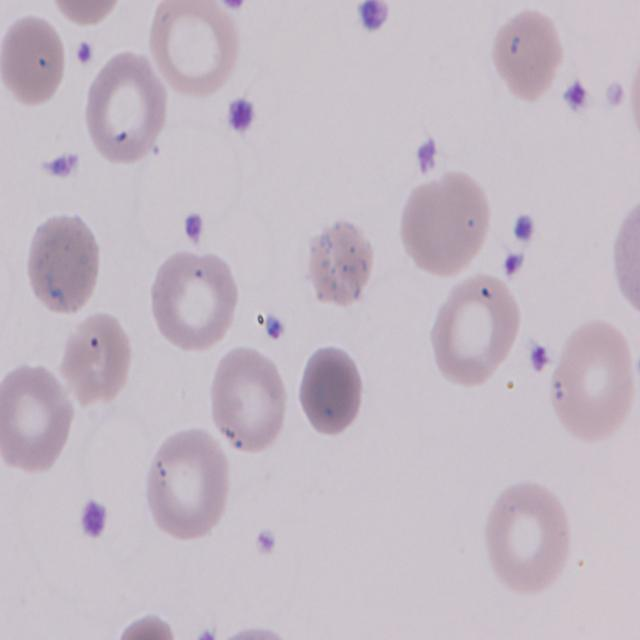Platelets: (507, 210, 537, 252)
RBC: (548, 316, 640, 446), (428, 270, 522, 390), (484, 481, 574, 600), (79, 49, 167, 170), (398, 166, 493, 278), (144, 426, 232, 543), (146, 244, 238, 355), (146, 0, 240, 104), (207, 342, 290, 454), (0, 358, 76, 476), (488, 4, 570, 100), (608, 195, 640, 321), (42, 0, 130, 29), (108, 610, 186, 640), (197, 626, 309, 640), (628, 36, 640, 162)
Spherocyte: (26, 206, 104, 319), (0, 8, 69, 109), (298, 344, 362, 436)
